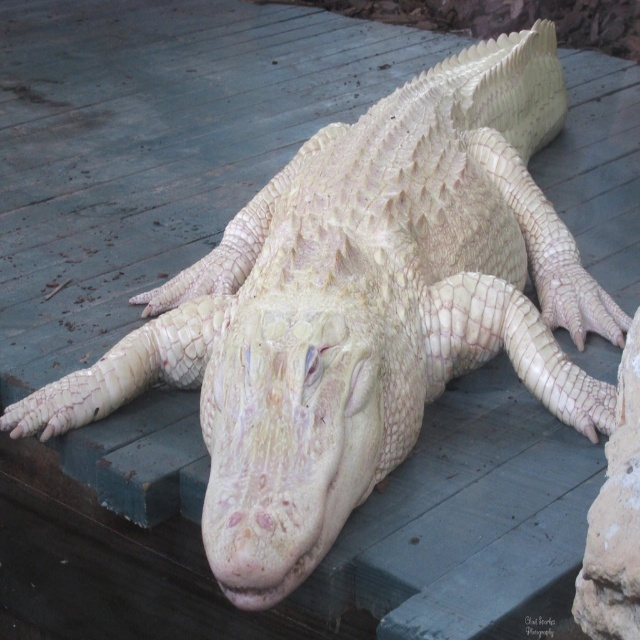Crocodile: (0, 8, 633, 612), (567, 300, 640, 639)
